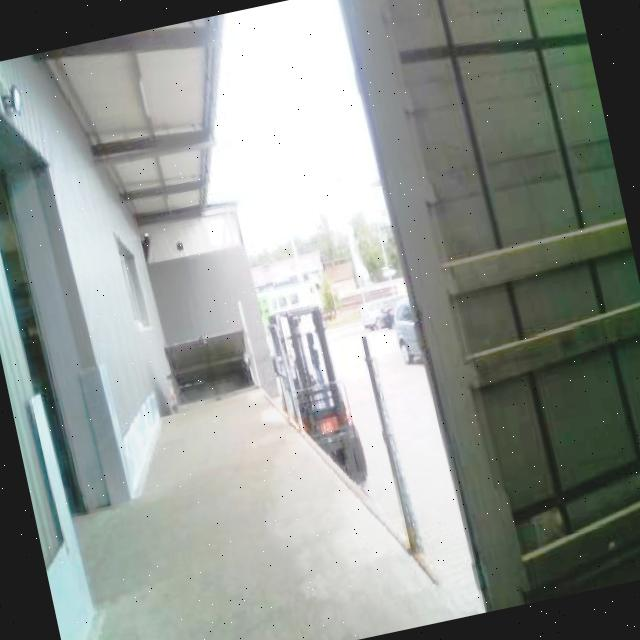ground: (17, 345, 481, 640)
pallet: (340, 0, 640, 614), (435, 215, 640, 605), (260, 296, 368, 496), (160, 325, 256, 405), (160, 336, 215, 403), (202, 327, 254, 394)
